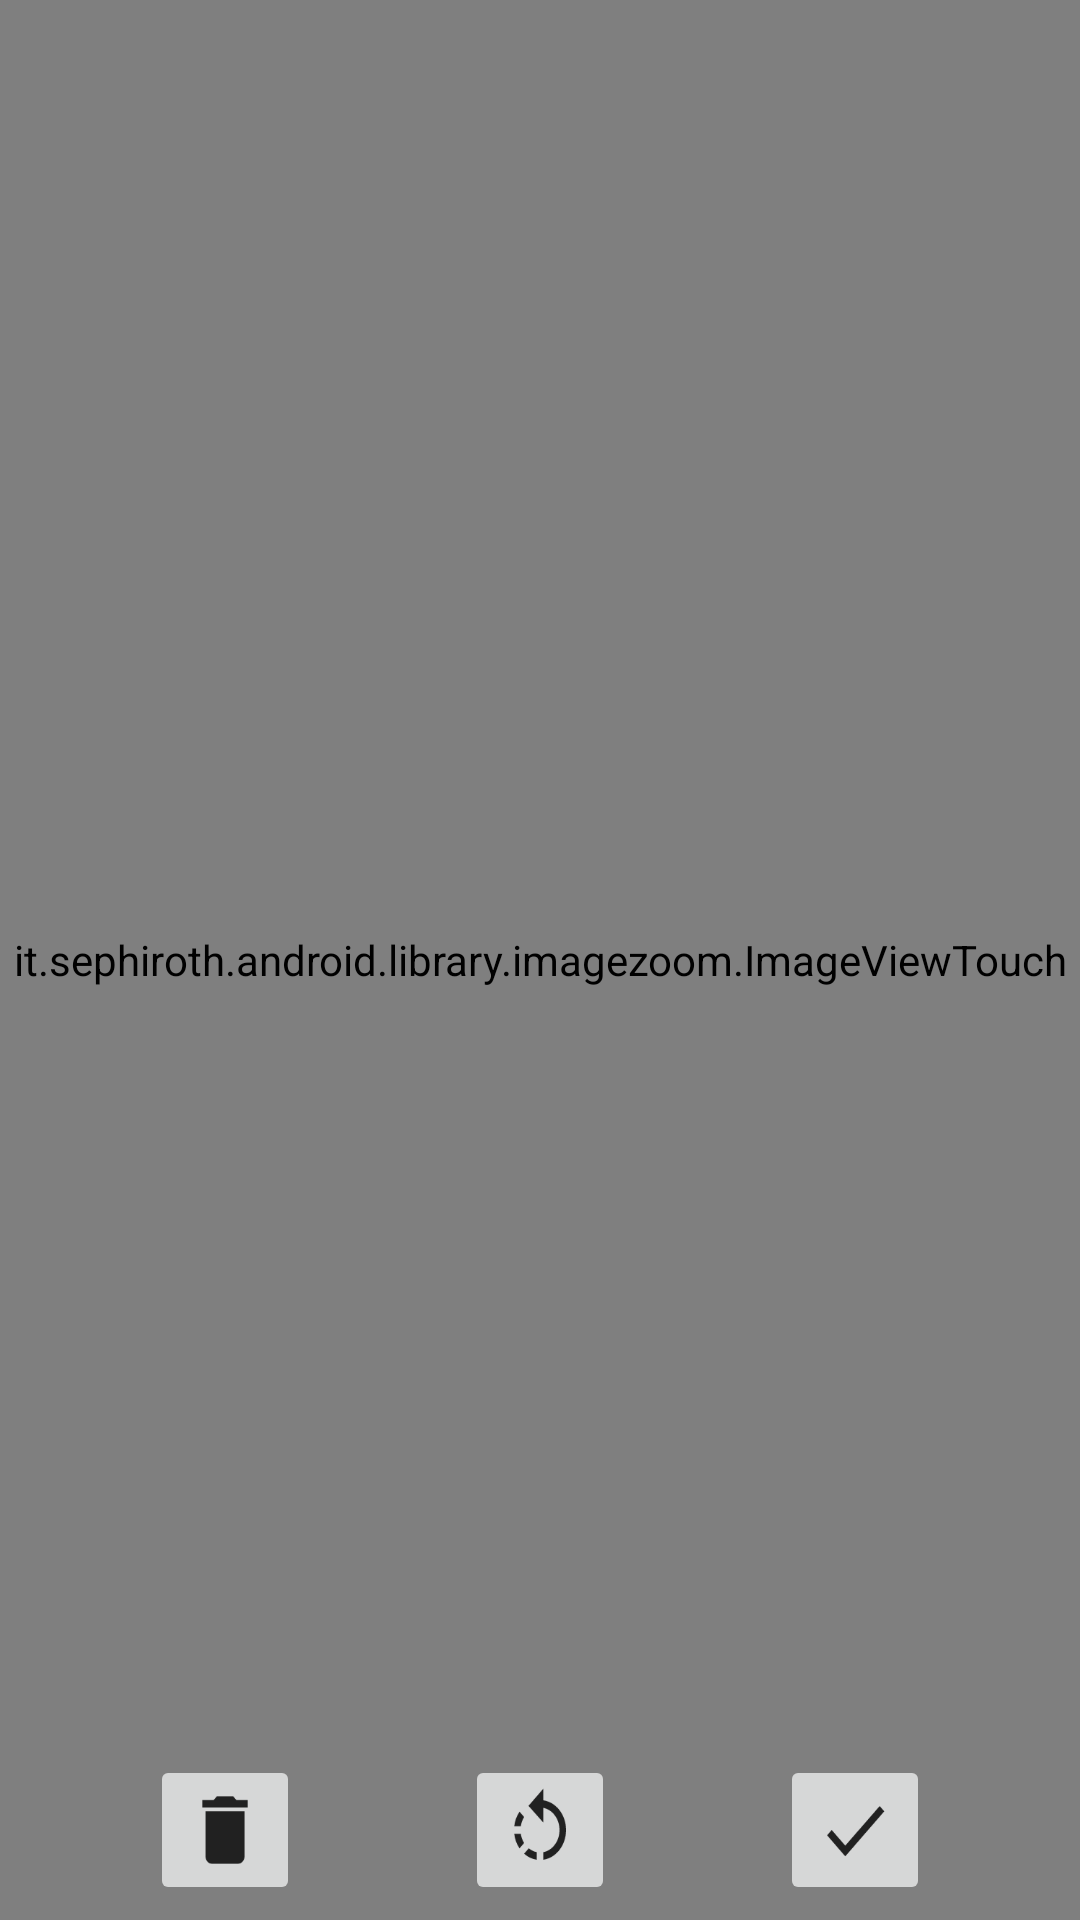

Icon bounding boxes for this 1080w x 1920h phone screenshot, format (x1, y1, x2, y2):
check: (792, 1773, 918, 1887)
delete: (162, 1773, 288, 1887)
rotate left: (477, 1773, 603, 1887)
